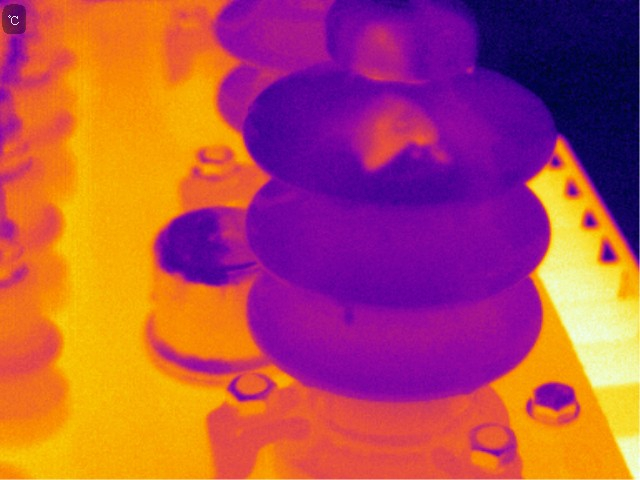Oil: (342, 89, 459, 180), (351, 18, 437, 88)
